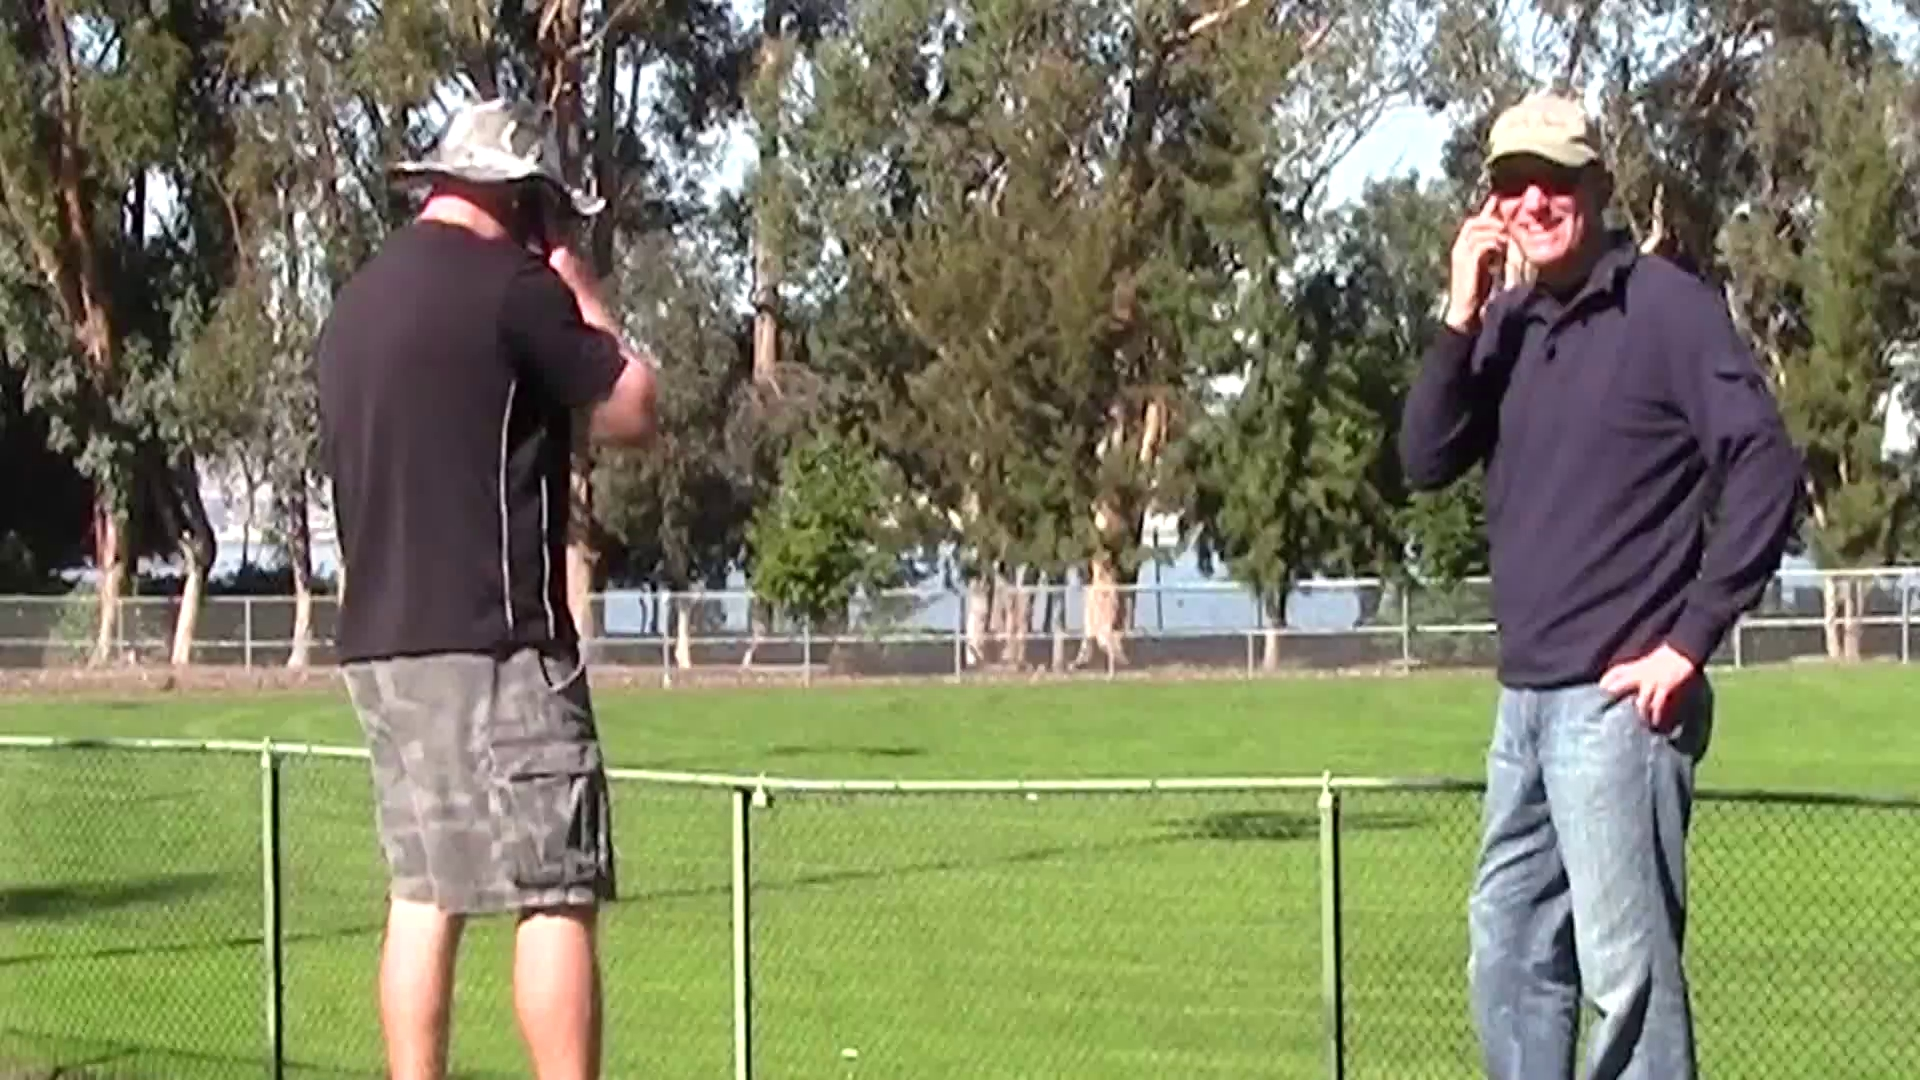person: (1399, 91, 1802, 1077), (317, 96, 661, 1079)
